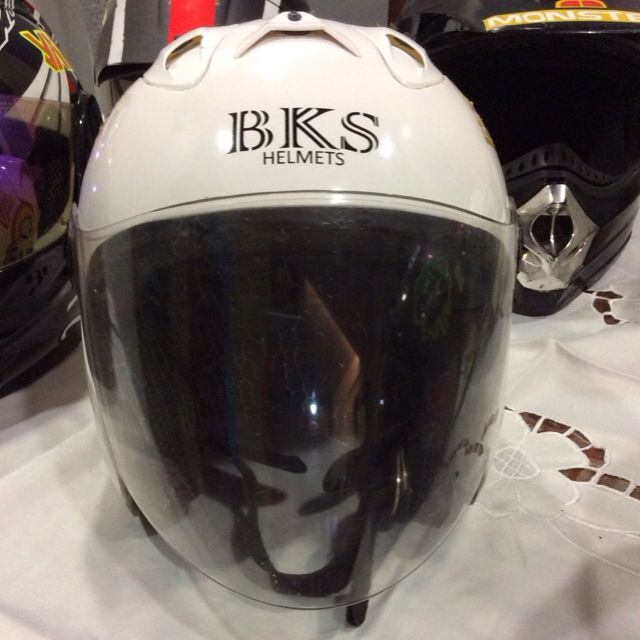with_helmet: (52, 10, 536, 630)
